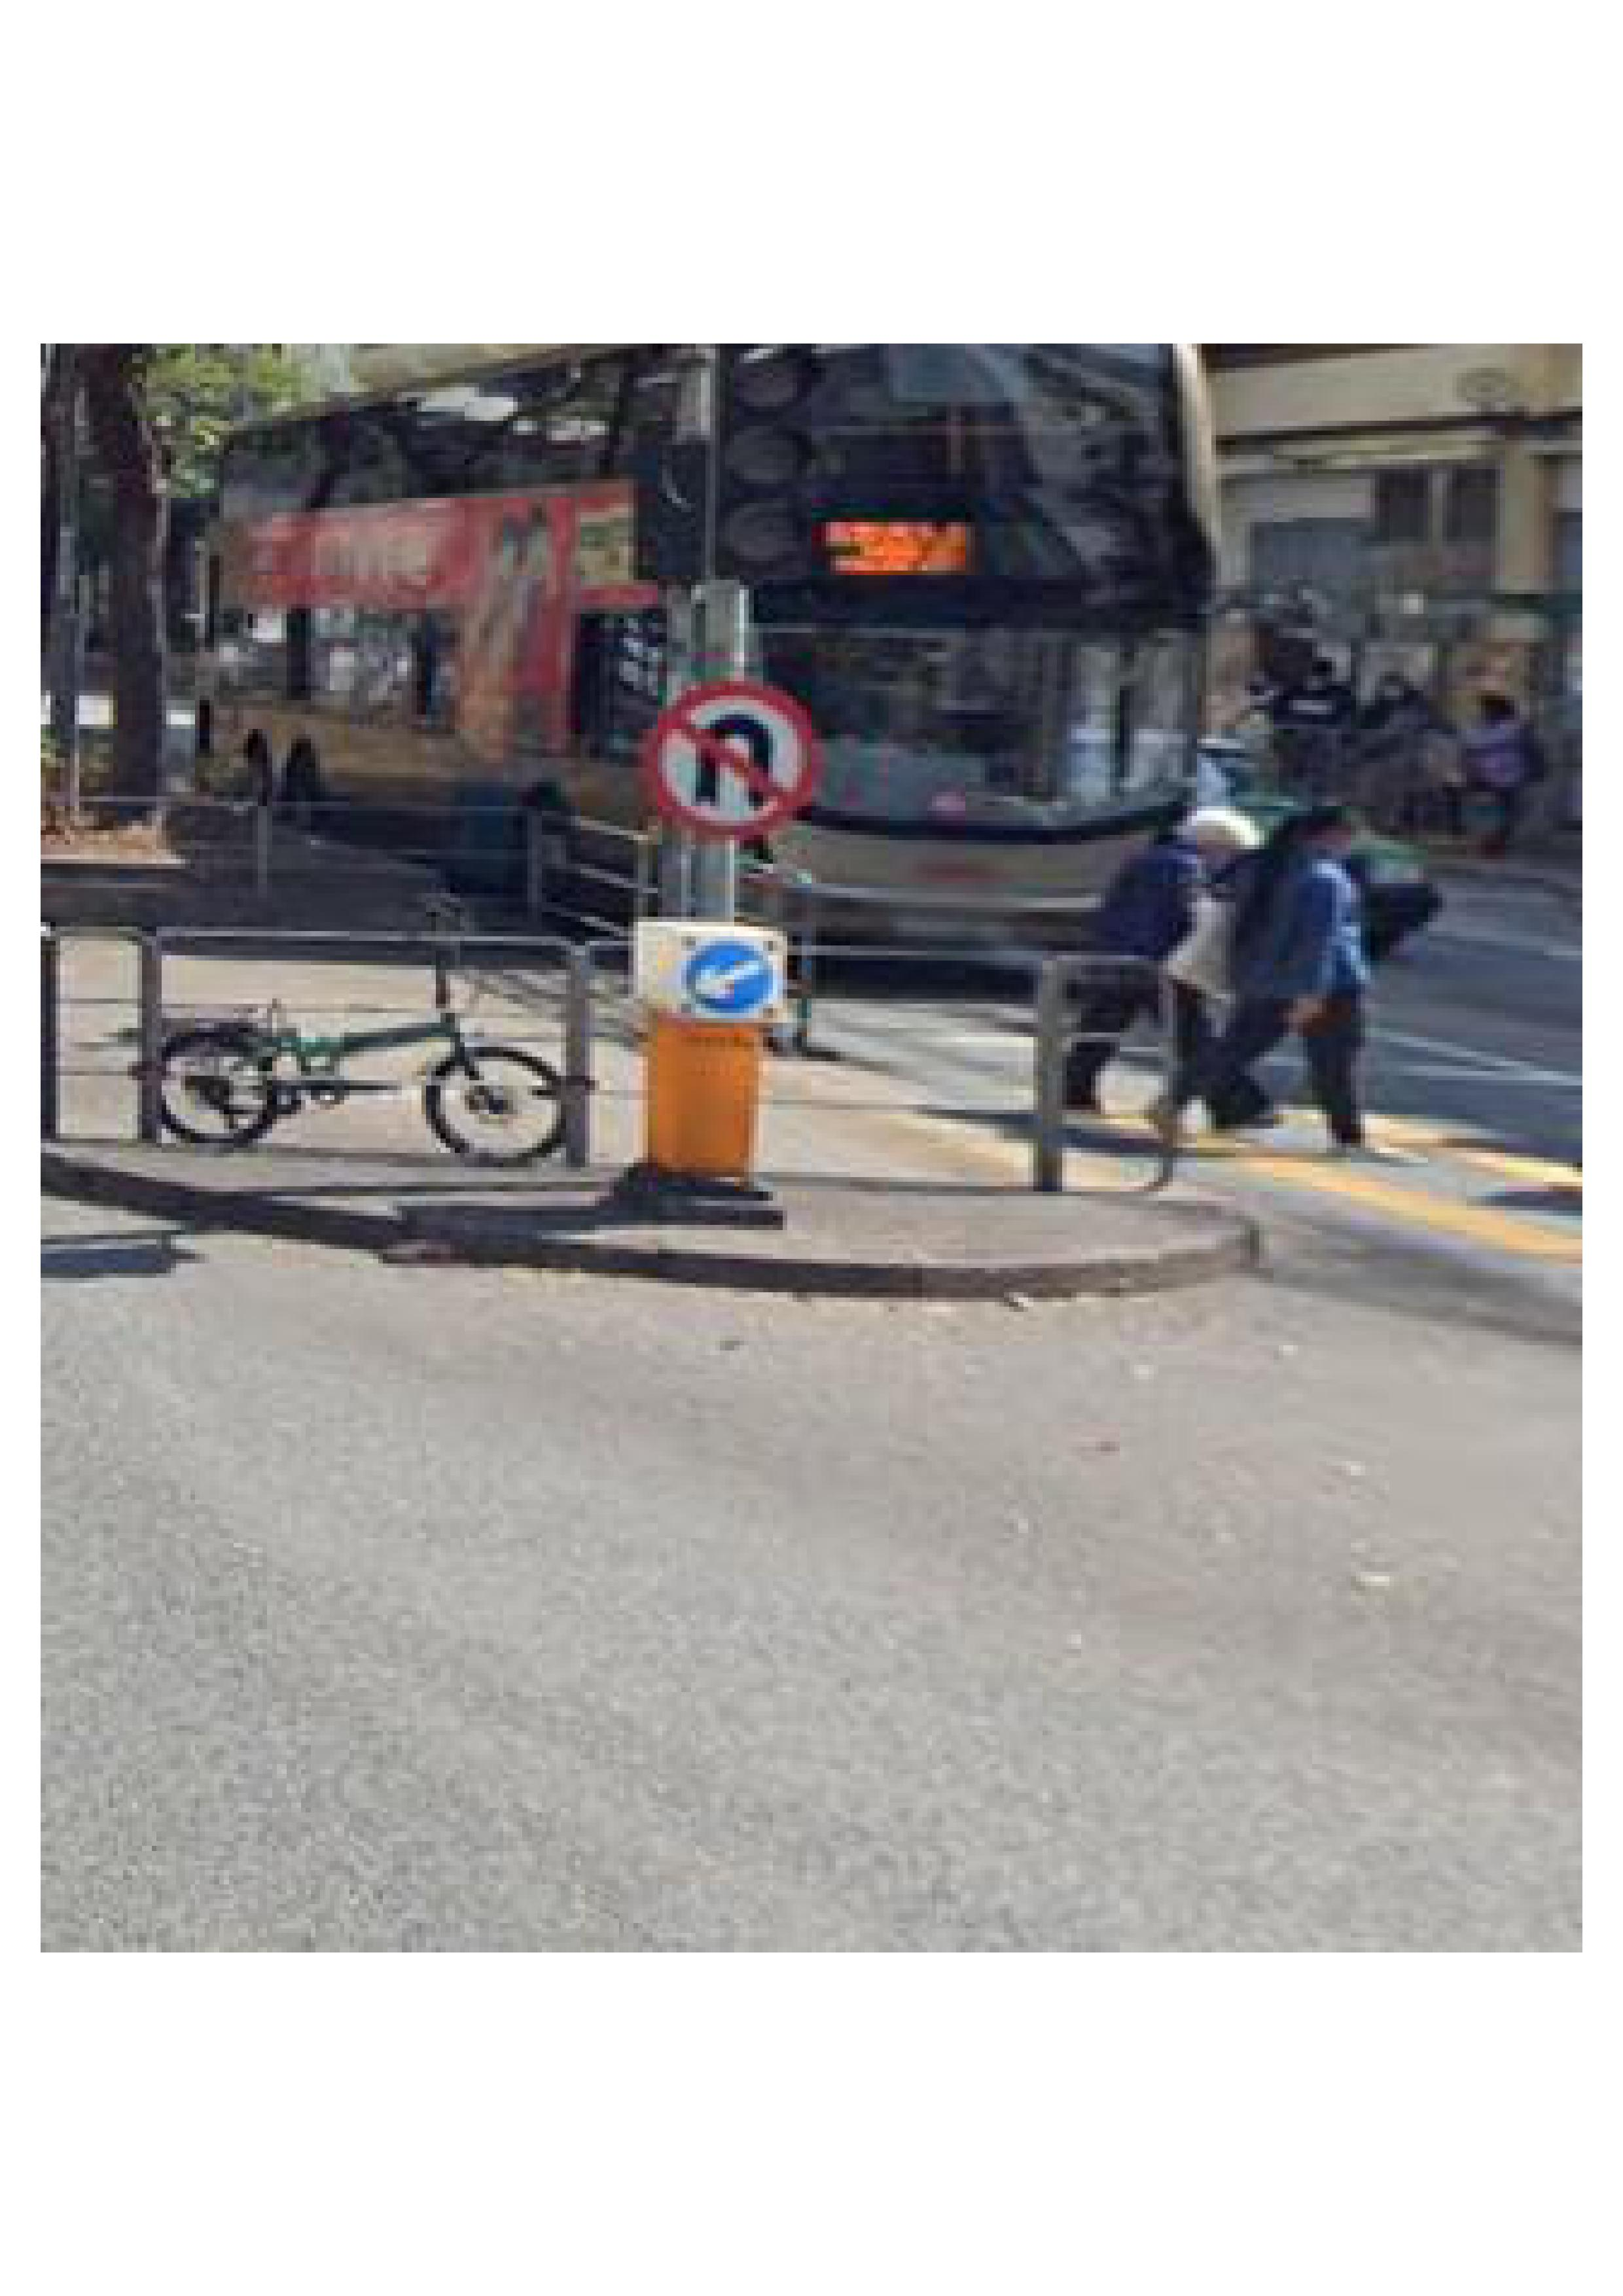No Uturn: (639, 662, 834, 843)
